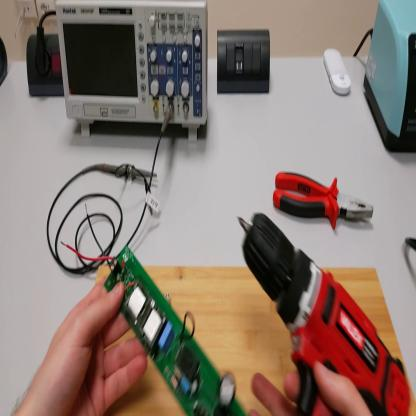electric screwdriver: (240, 214, 413, 416)
hand: (28, 277, 149, 414), (249, 360, 373, 415)
high voltage board: (62, 203, 258, 416)
oscilloscope: (57, 1, 213, 146)
oscilloscope probe tip: (106, 162, 160, 184)
pliers: (273, 175, 375, 234)
socket: (26, 35, 66, 99), (2, 35, 10, 87)
welder station: (364, 3, 416, 153)
working area: (98, 255, 416, 415)
